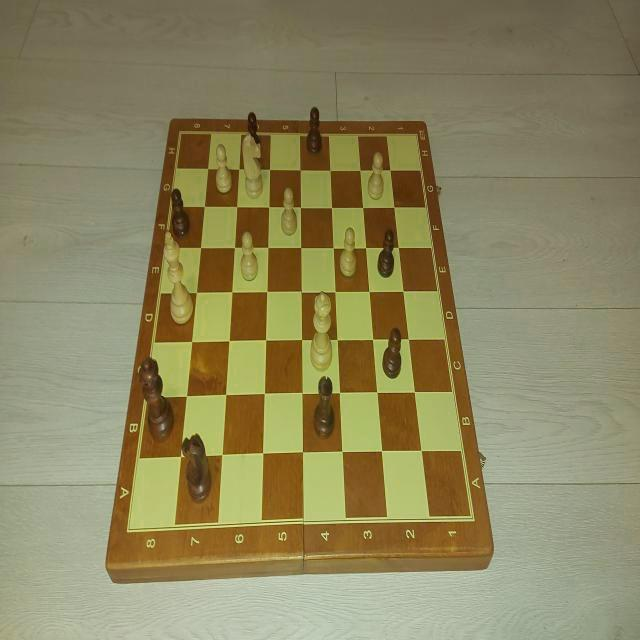chess-table-corners: (118, 510, 141, 546), (460, 497, 482, 534), (172, 124, 190, 150), (406, 126, 424, 151)
